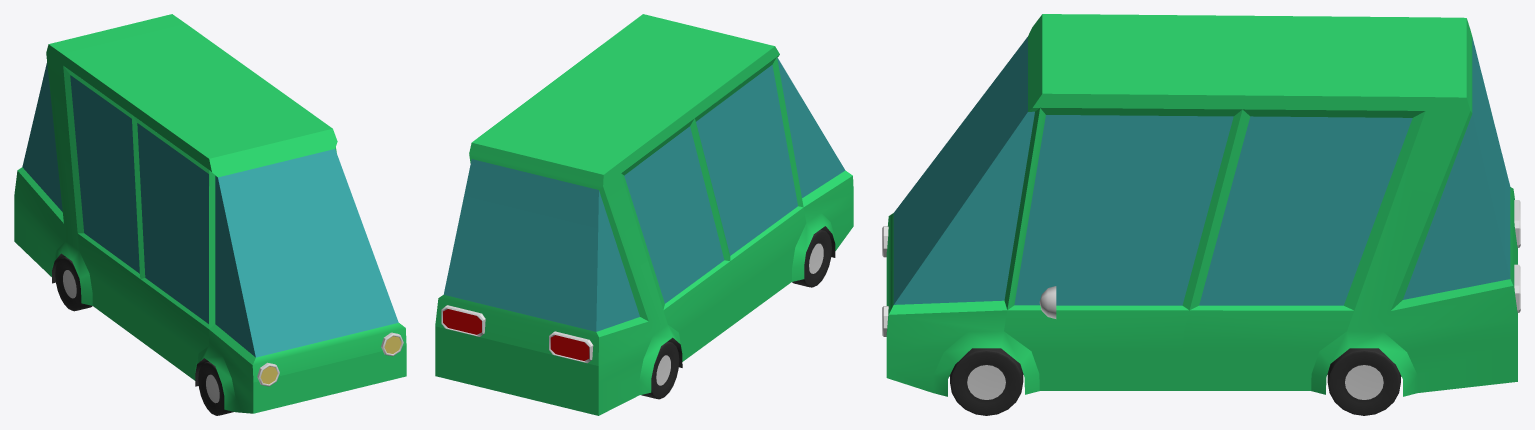
The model's file is MiniVan_Animations.fbx.
3 views of the same model, side by side, from view 1: azimuth 30°, elevation 25°; view 2: azimuth 150°, elevation 25°; view 3: azimuth 270°, elevation 25° (orthographic). The views are drawn at different scales.
Parts seen in each view (by area): view 1: MiniVan_Body, Front_Right_Door, Rear_Right_Door; view 2: MiniVan_Body, Front_Right_Door, Rear_Right_Door; view 3: MiniVan_Body, Front_Left_Door, Rear_Left_Door.
Boxes of the visible parts, box(x1,y1,x2,y2) form: MiniVan_Body: box(14, 14, 406, 415); Front_Right_Door: box(132, 115, 209, 367); Rear_Right_Door: box(63, 66, 140, 325); MiniVan_Body: box(435, 14, 853, 415); Front_Right_Door: box(695, 57, 806, 312); Rear_Right_Door: box(621, 118, 731, 348); MiniVan_Body: box(882, 14, 1520, 415); Front_Left_Door: box(1004, 107, 1242, 373); Rear_Left_Door: box(1182, 109, 1425, 373).
Size of the model in its own units: 9.22 by 11.37 by 21.15.
